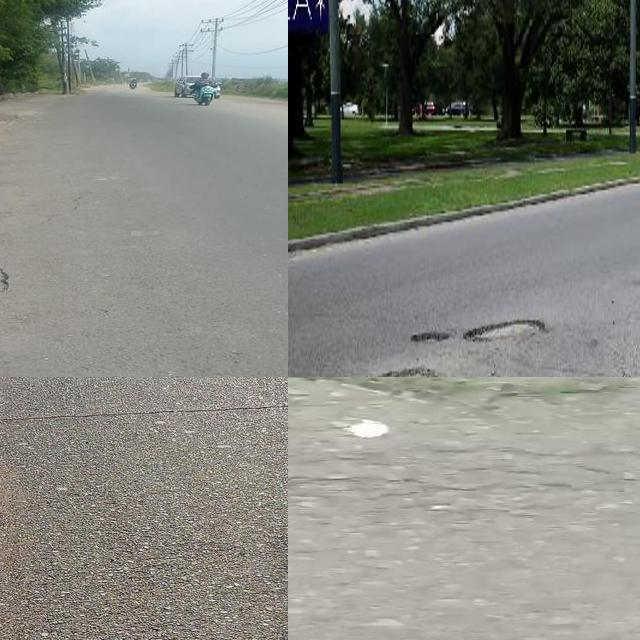Lubang: (452, 314, 552, 348)
Melintang: (0, 391, 288, 444)
